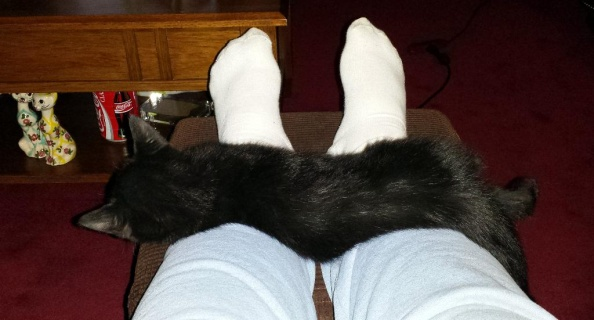Cat: (72, 112, 541, 302)
